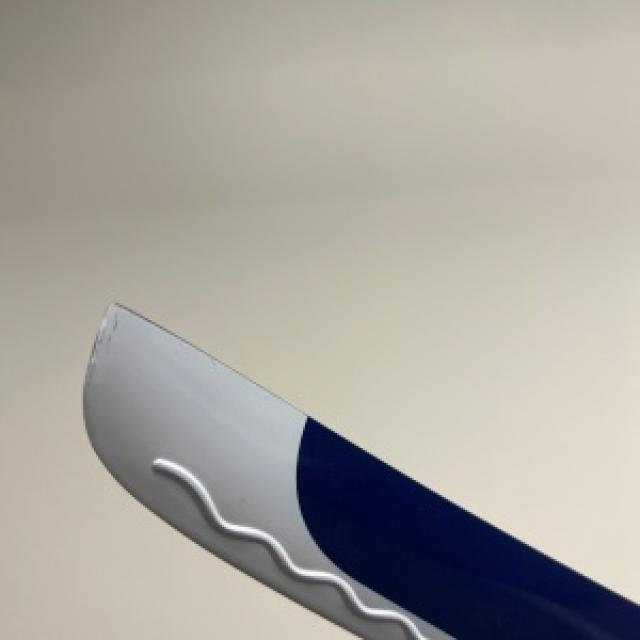healthy: (81, 305, 638, 638)
